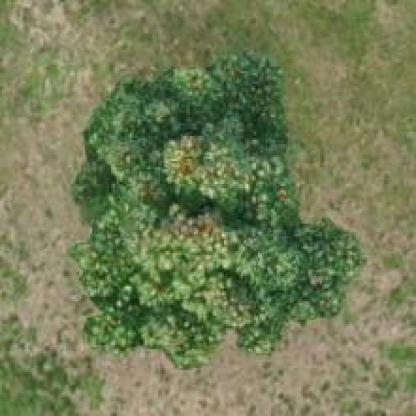Deciduous Tree: (70, 39, 354, 356)
